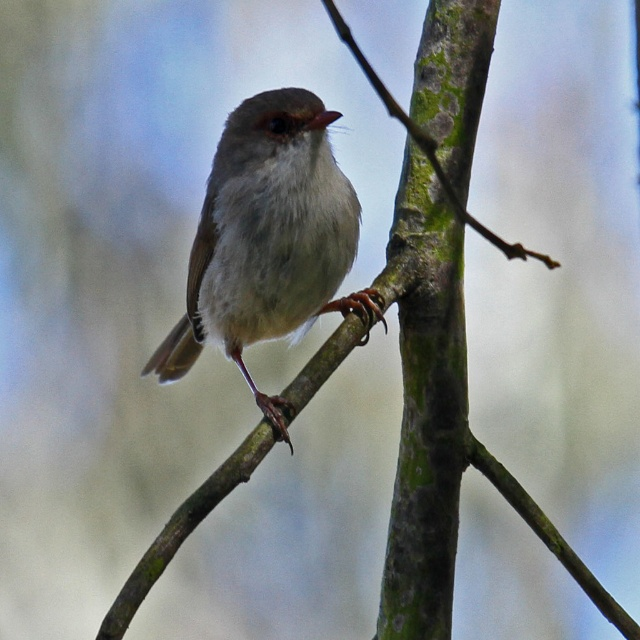Sparrow: (139, 83, 388, 458)
